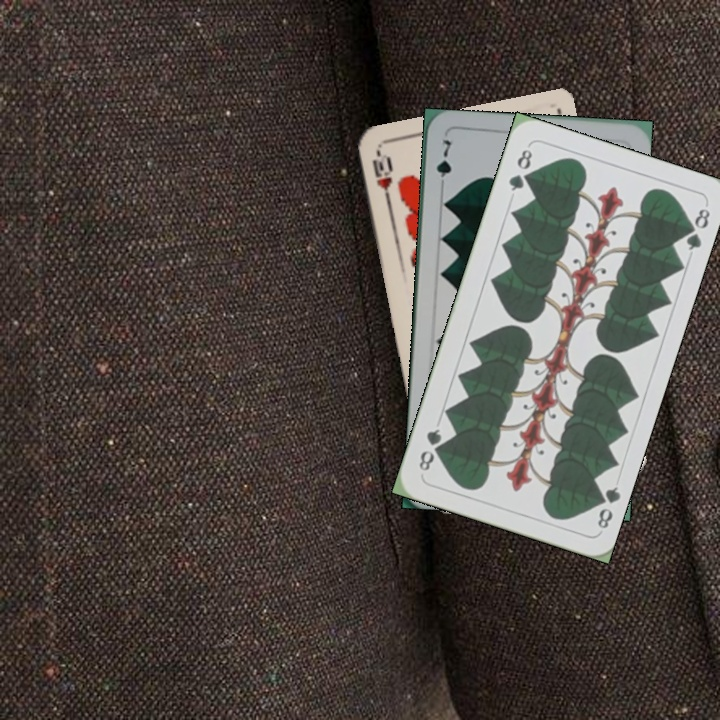G7: (432, 134, 454, 193)
G8: (589, 482, 623, 534), (504, 145, 535, 194)
H10: (368, 147, 395, 206)
